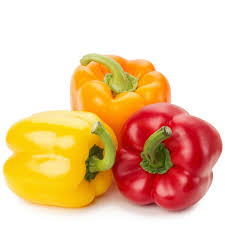bell pepper: (113, 100, 222, 218), (2, 107, 110, 217), (71, 50, 173, 143)
